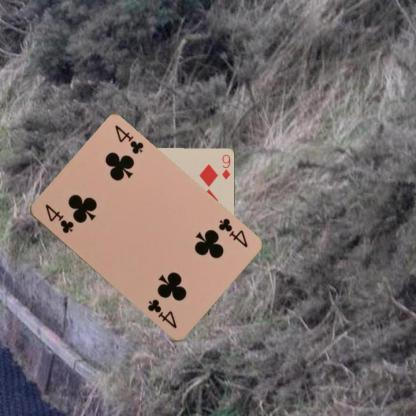4c: (42, 201, 75, 235), (215, 216, 249, 249)
